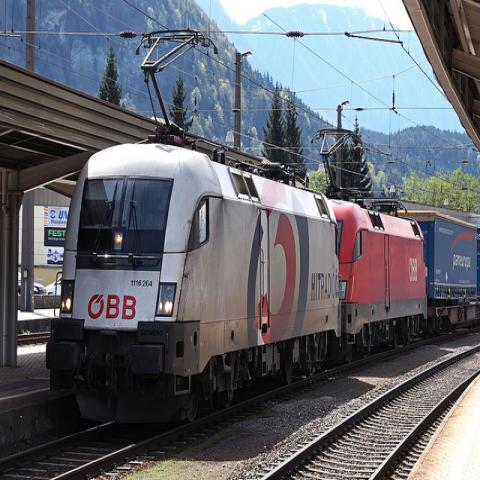car: (17, 271, 47, 295), (45, 276, 62, 296)
